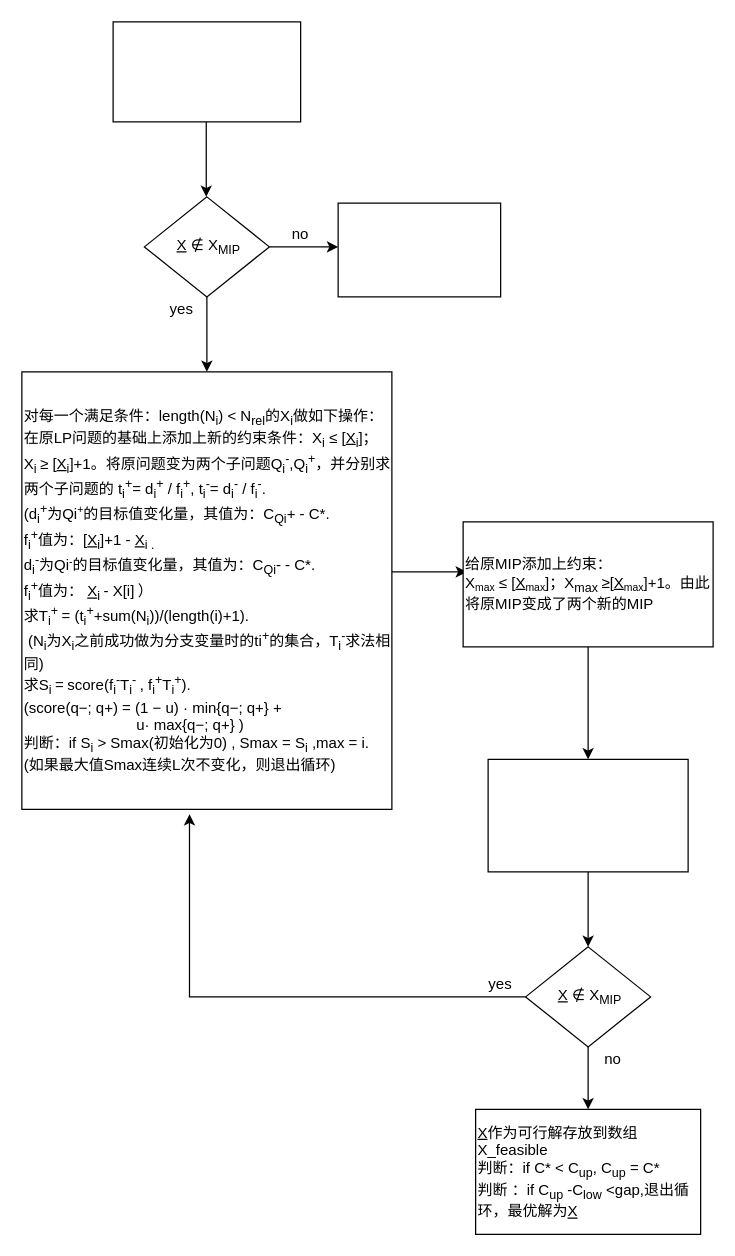
This 735x1256 diagram has some shape labels left out. The centre of each missing label's shape, as x and y in pixels:
MIP简化为LP后求出LP的最优解 X 与目标值C*,C low = C*: the point at 206,71
求出最优解 X: the point at 419,249
计算新的MIP简化为LP后的最优解 X 与目标值C* 判断 ： if C* > C up ,则此节点不再向下探究: the point at 587,815
